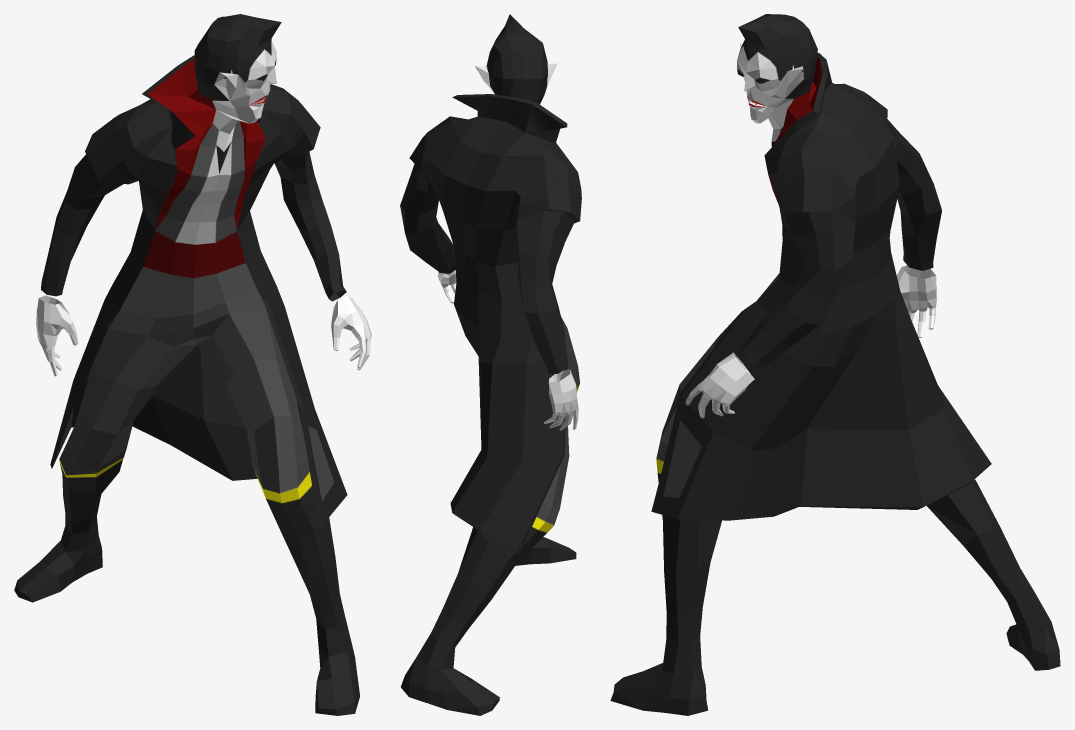
Rendered from VampireIdle(20).obj.
3 views of the same model, side by side, from view 1: azimuth 30°, elevation 25°; view 2: azimuth 150°, elevation 25°; view 3: azimuth 270°, elevation 25° (orthographic). The views are drawn at different scales.
Visible parts, largest first — view 1: Plane002; view 2: Plane002; view 3: Plane002.
Boxes of the visible parts, x1,y1,x2,y2 form: Plane002: (14,14,371,715); Plane002: (400,14,581,715); Plane002: (610,14,1060,715).
Size of the model in its own units: 118 by 306 by 187.
